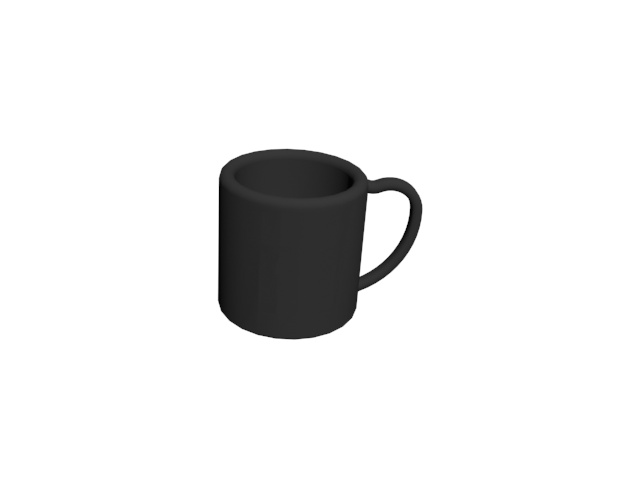mug: (217, 145, 424, 344)
